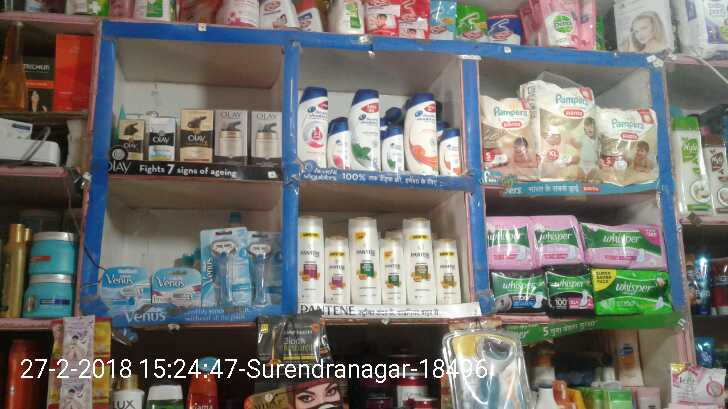venus: (202, 230, 251, 307), (251, 231, 284, 307), (95, 267, 151, 308), (152, 267, 199, 305)
